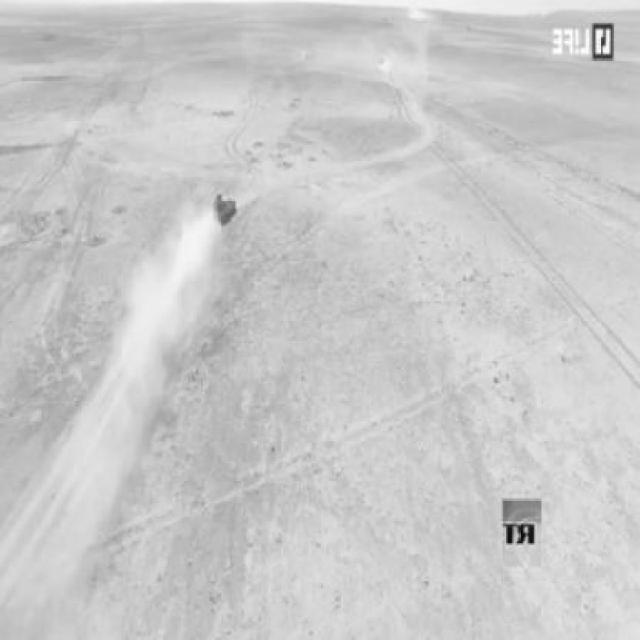Vehicle: (214, 194, 240, 231)
